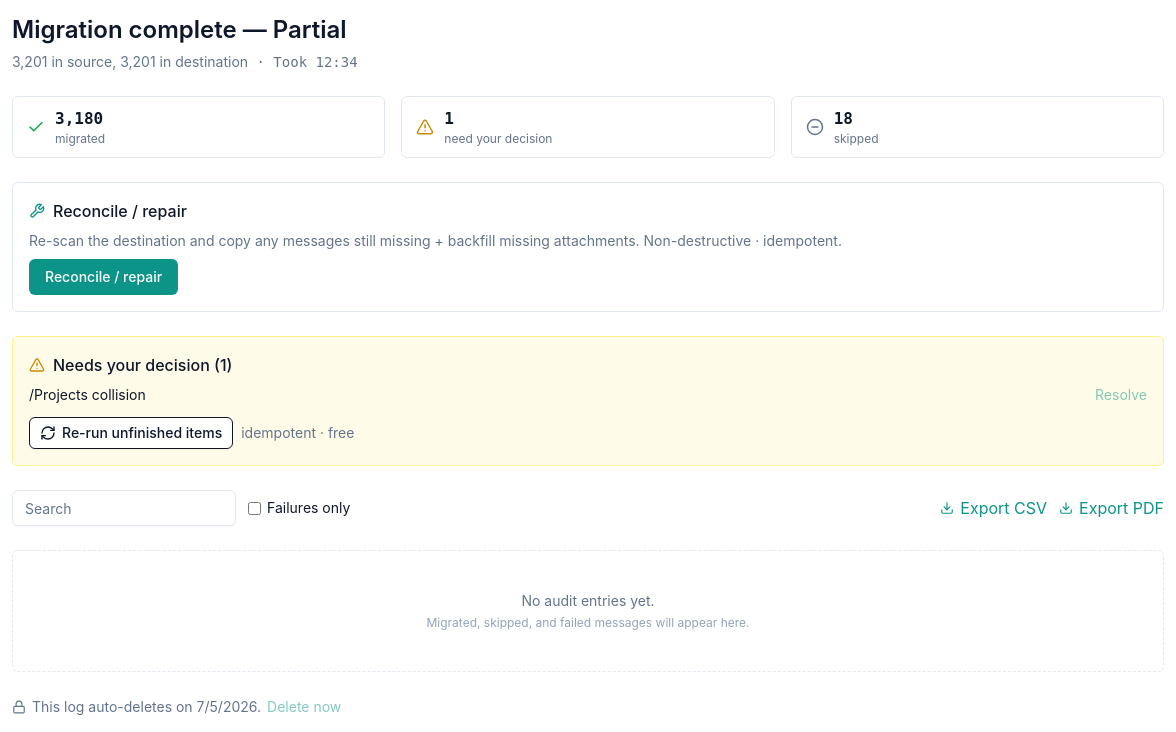
Results › reconcile failure renders an ErrorAlert (not an infinite skeleton)
The width and height of the screenshot is (1176, 732).
expect the heading "Migration complete — Partial" is shown: met, box [12,15,347,44]
Click the button "Reconcile / repair". click: (104, 277)
box: [29,259,178,295]
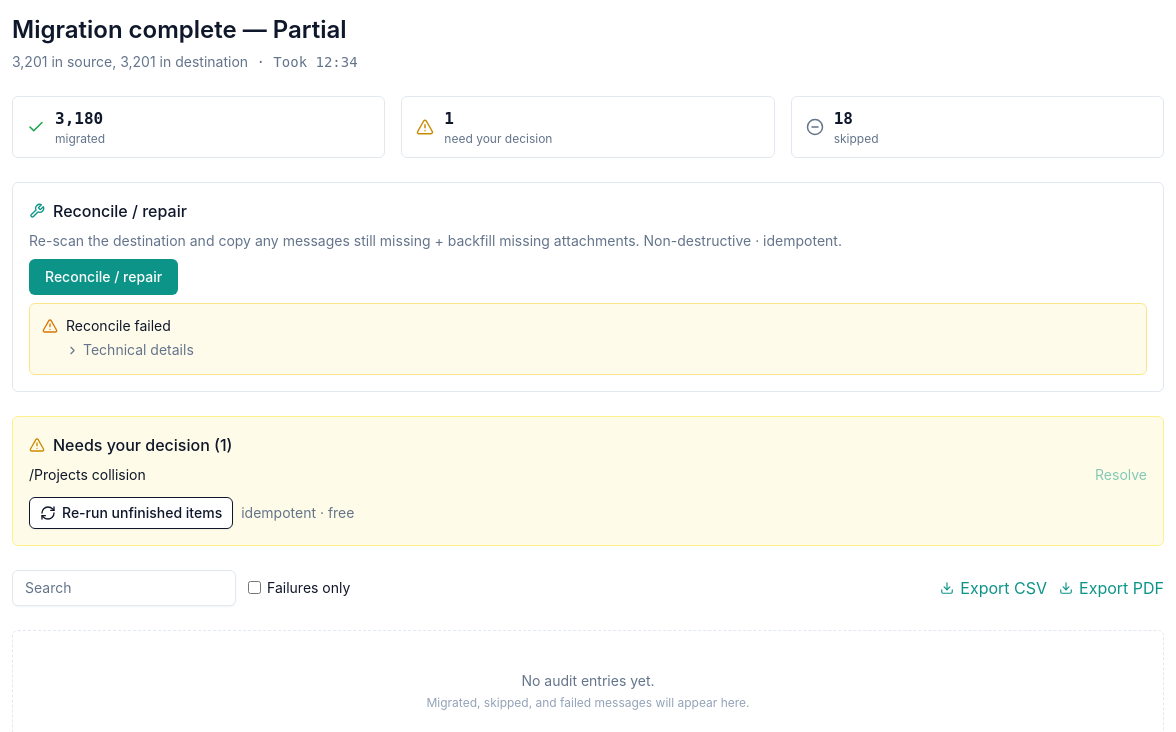
expect the message shows "Reconcile failed": met, box [66,317,171,334]
